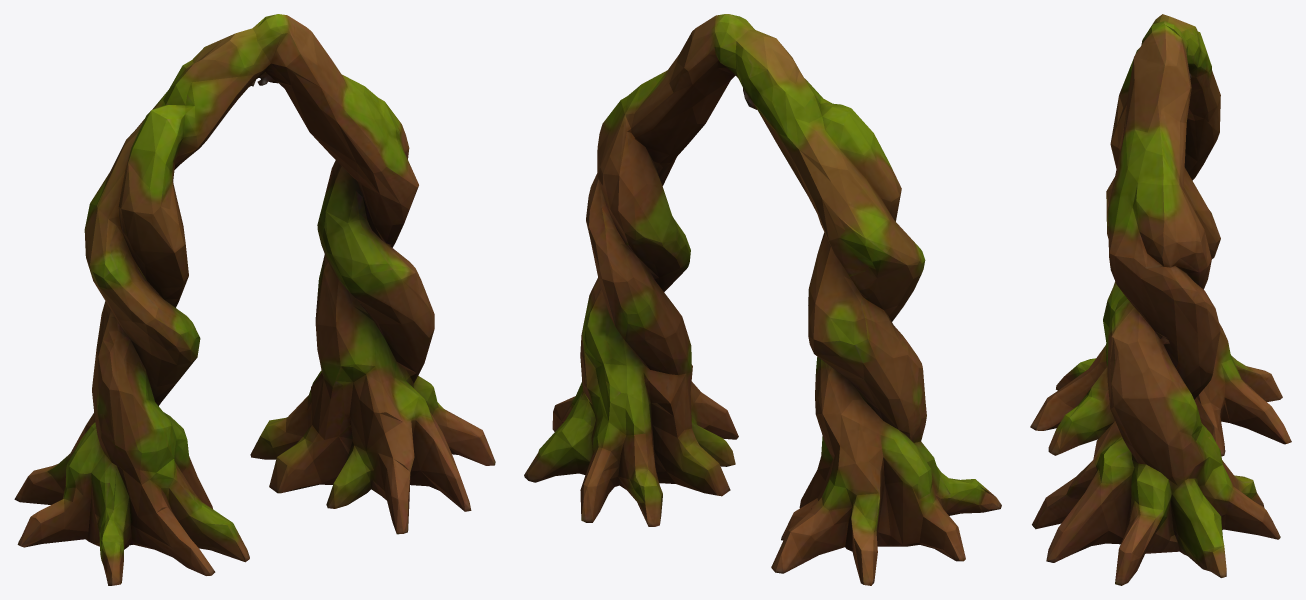
The model's file is racines_arche.glb.
3 views of the same model, side by side, from view 1: azimuth 30°, elevation 25°; view 2: azimuth 150°, elevation 25°; view 3: azimuth 270°, elevation 25° (orthographic). The views are drawn at different scales.
Visible parts, largest first — view 1: geometry_0; view 2: geometry_0; view 3: geometry_0.
Boxes of the visible parts, x1,y1,x2,y2 form: geometry_0: (14,14,495,585); geometry_0: (524,14,1001,585); geometry_0: (1030,14,1291,585).
Bounding box in the file's own units: 0.9538 × 0.9975 × 0.4981.
Materials: 1 (1 with a texture image).
